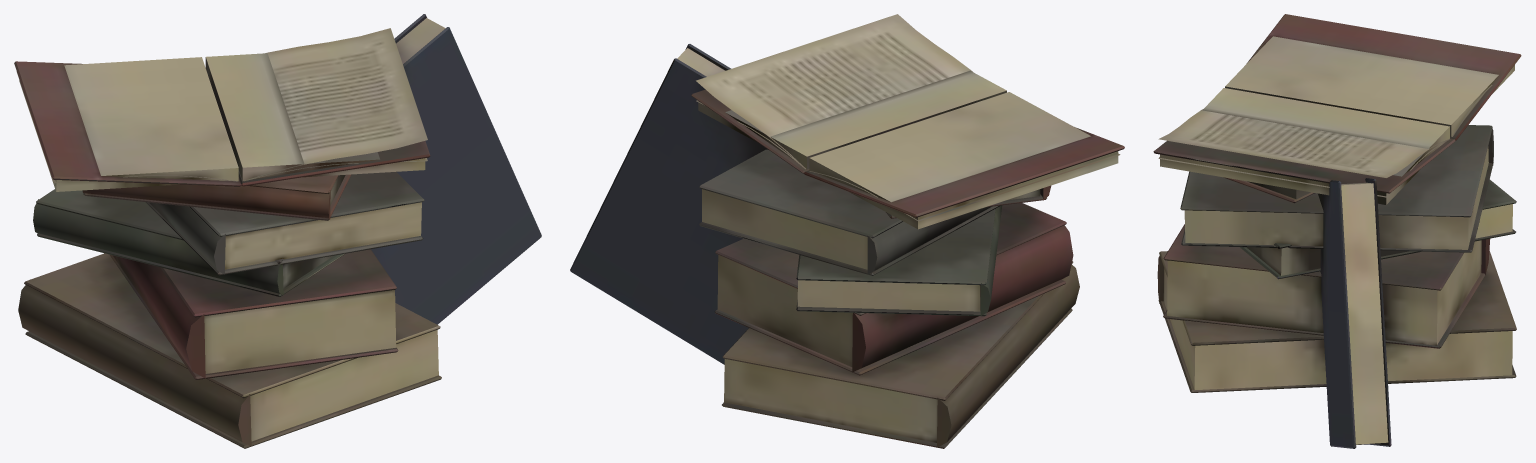
Rendered from dressing_books_pile.glb.
3 views of the same model, side by side, from view 1: azimuth 30°, elevation 25°; view 2: azimuth 150°, elevation 25°; view 3: azimuth 270°, elevation 25° (orthographic). The views are drawn at different scales.
Visible parts, largest first — view 1: dressing_books_pile; view 2: dressing_books_pile; view 3: dressing_books_pile.
Part boxes in pixels (<box>): dressing_books_pile: <box>14,14,541,448</box>; dressing_books_pile: <box>570,14,1124,448</box>; dressing_books_pile: <box>1153,14,1521,448</box>.
Bounding box in the file's own units: 0.4591 × 0.2631 × 0.3018.
1 material, 1 textured.
